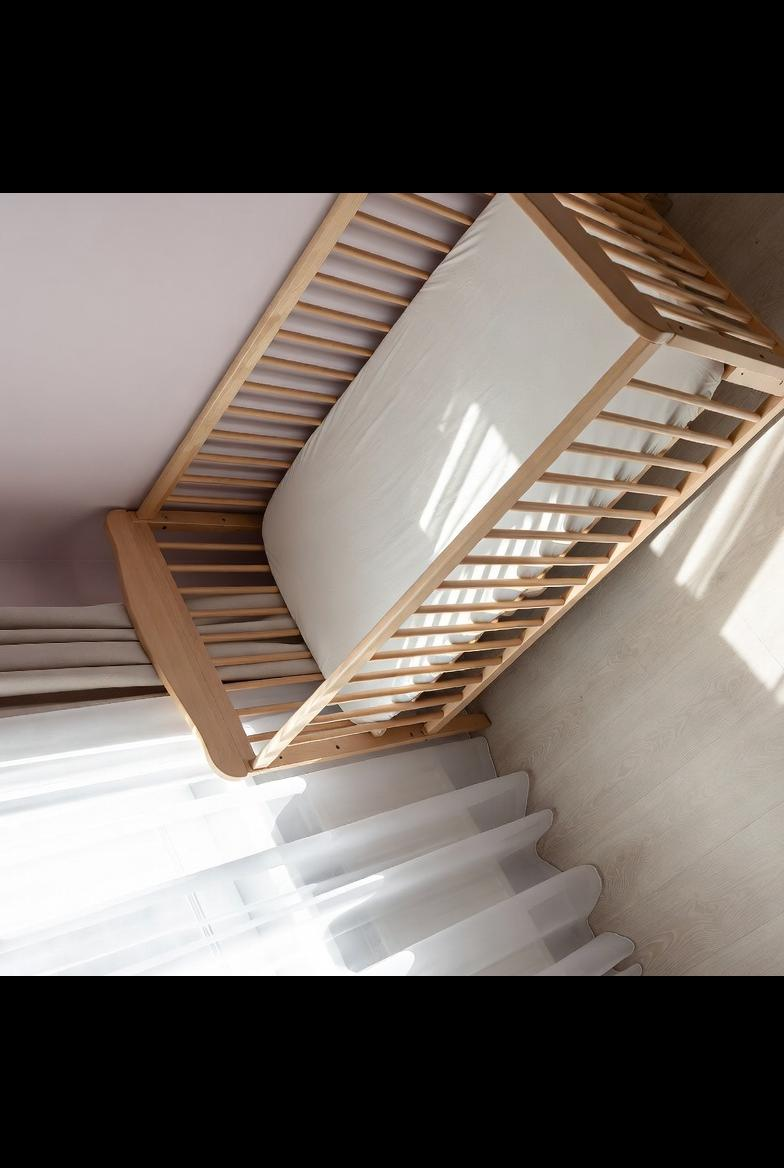crib: (86, 192, 784, 788)
